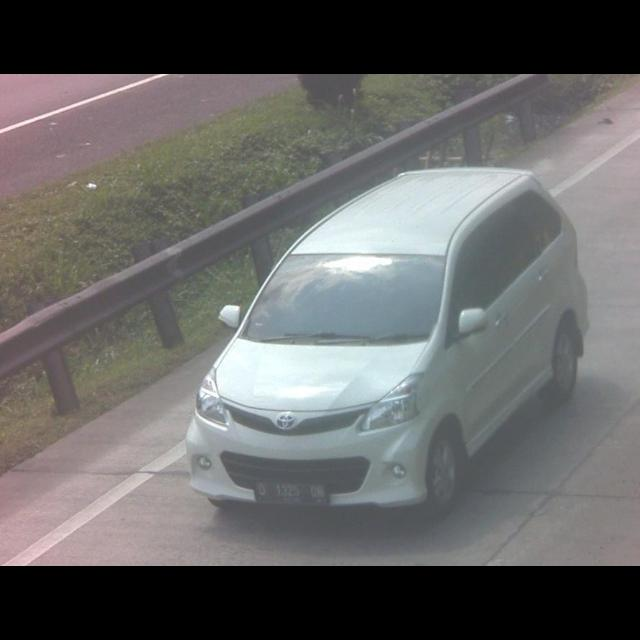plate: (250, 479, 328, 507)
